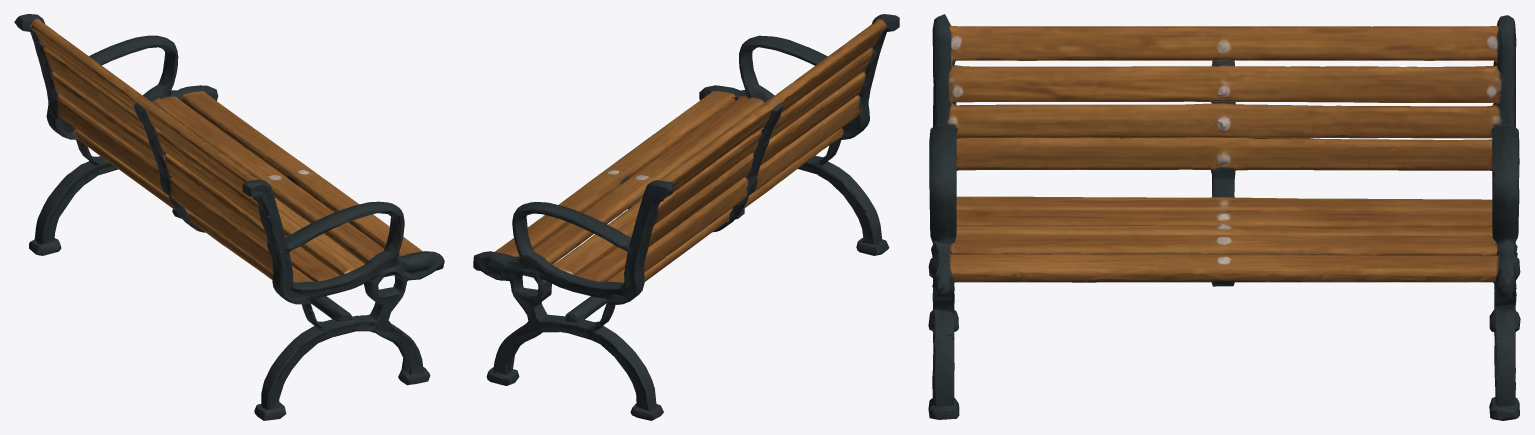
Rendered from bench.glb.
3 views of the same model, side by side, from view 1: azimuth 30°, elevation 25°; view 2: azimuth 150°, elevation 25°; view 3: azimuth 270°, elevation 25° (orthographic). The views are drawn at different scales.
Parts seen in each view (by area): view 1: mes_placement; view 2: mes_placement; view 3: mes_placement.
Boxes of the visible parts, bbox=[...] form: mes_placement: bbox=[14, 14, 444, 420]; mes_placement: bbox=[473, 14, 899, 420]; mes_placement: bbox=[928, 14, 1520, 420].
Size of the model in its own units: 0.8255 by 0.9452 by 1.7.
Materials: 1 (1 with a texture image).
